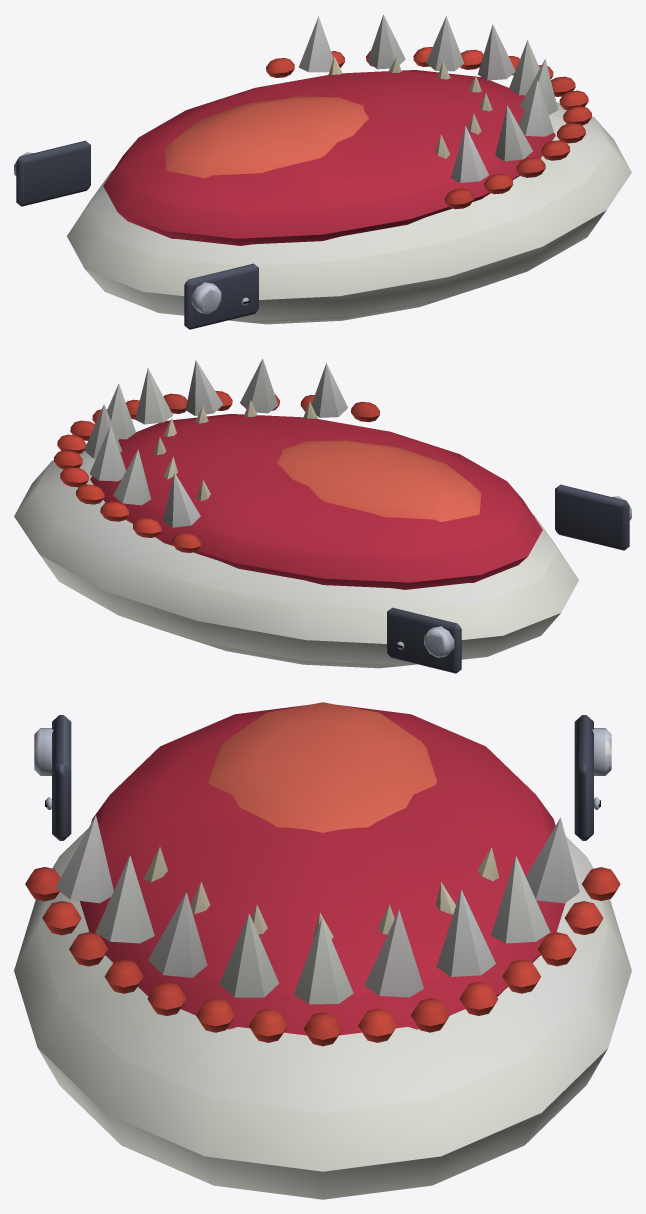
The model's file is SM_Shark_Jaw.fbx.
3 renders of one model, top to bottom at view 1: azimuth 30°, elevation 25°; view 2: azimuth 150°, elevation 25°; view 3: azimuth 270°, elevation 25°, orthographic. The views are drawn at different scales.
Parts seen in each view (by area): view 1: SM_Shark_Jaw; view 2: SM_Shark_Jaw; view 3: SM_Shark_Jaw.
Part boxes in pixels (x1=…): SM_Shark_Jaw: x1=14, y1=14, x2=631, y2=329; SM_Shark_Jaw: x1=14, y1=358, x2=631, y2=673; SM_Shark_Jaw: x1=14, y1=702, x2=631, y2=1199.
Size of the model in its own units: 160 by 56.05 by 104.
